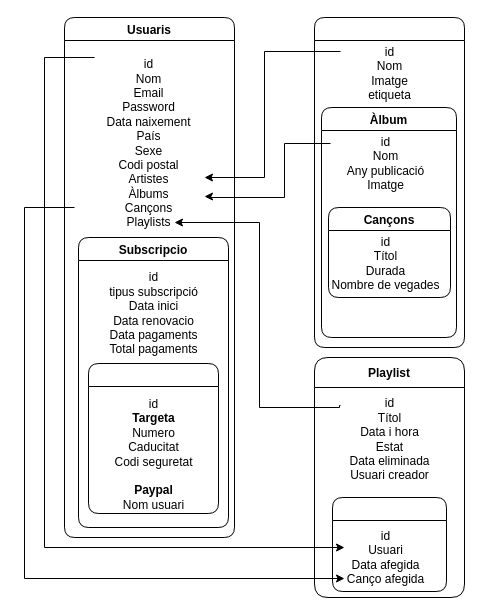
Image size: 482x615. Some labels were removed from this diagram. The shapes that lost their labels are listed below. From the top down, each one's box as (x1, y1, x2, y2) in pixels, then its label:
(314, 16, 464, 348): Artista
(88, 362, 218, 514): Tipus pagament
(332, 496, 446, 592): Cançons afegides
